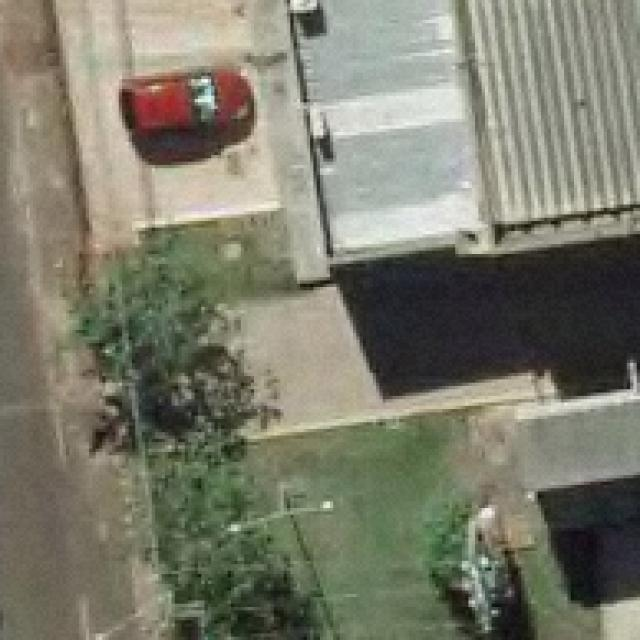trees: (80, 258, 324, 640)
